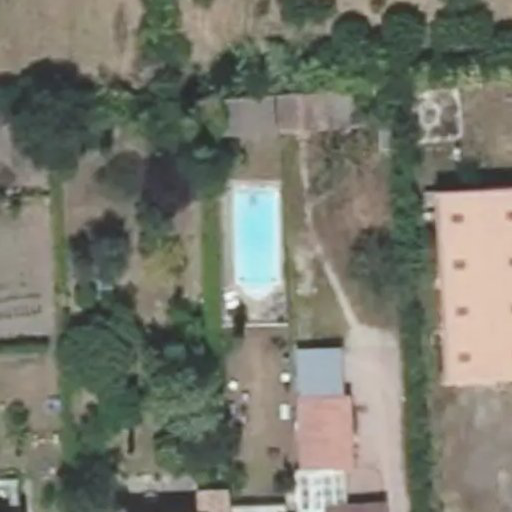pool: (228, 184, 284, 288)
